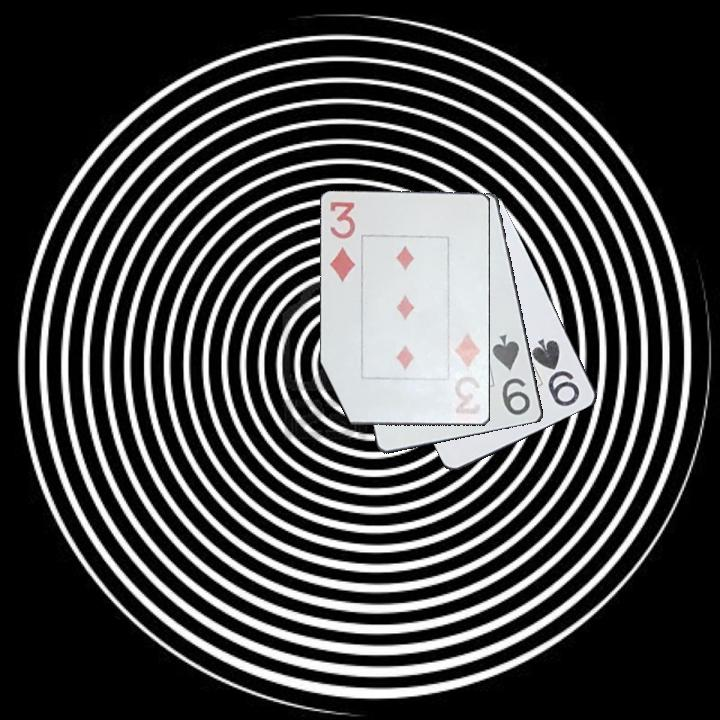3d: (447, 330, 484, 420), (325, 198, 359, 285)
9s: (529, 335, 583, 410), (489, 331, 533, 418)
